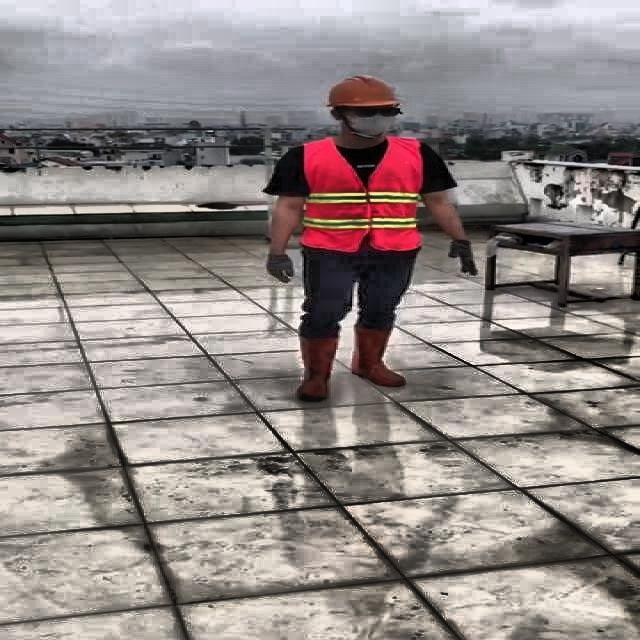safety_helmet: (322, 72, 404, 110)
safety_jacket: (298, 138, 424, 252)
